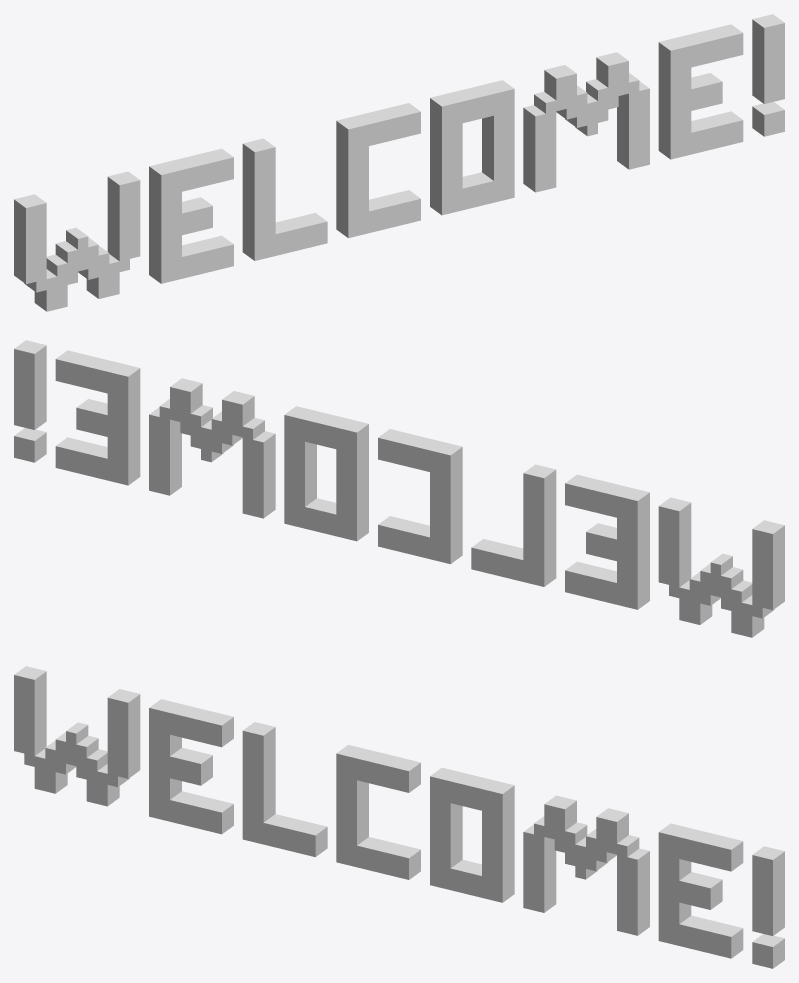
The model's file is welcome.obj.
3 views of the same model, one above another, from view 1: azimuth 30°, elevation 25°; view 2: azimuth 150°, elevation 25°; view 3: azimuth 330°, elevation 25° (orthographic).
Visible parts, largest first — view 1: Matrix_1; view 2: Matrix_1; view 3: Matrix_1.
Part boxes in pixels (x1,y1,x2,y2): Matrix_1: (14,14,784,311); Matrix_1: (14,340,784,637); Matrix_1: (14,666,784,968).
Size of the model in its own units: 73 by 10 by 2.
1 material, 1 textured.
